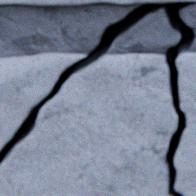brick: (0, 0, 181, 5)
broken_brick: (0, 53, 177, 195), (0, 52, 86, 149), (174, 52, 195, 195)
crack: (0, 0, 195, 195)
